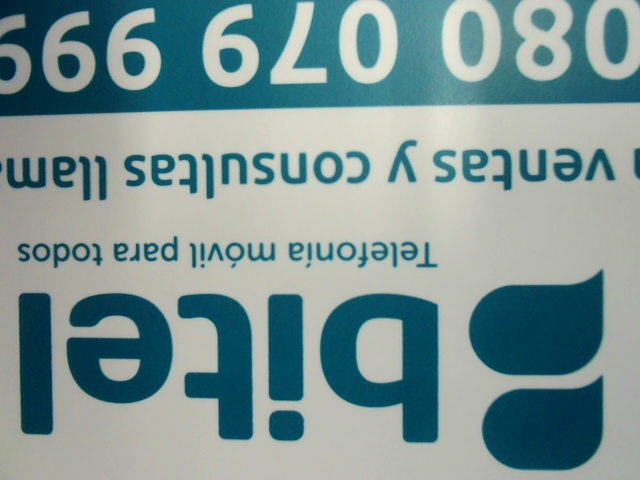BE_bitel: (8, 272, 613, 469)
